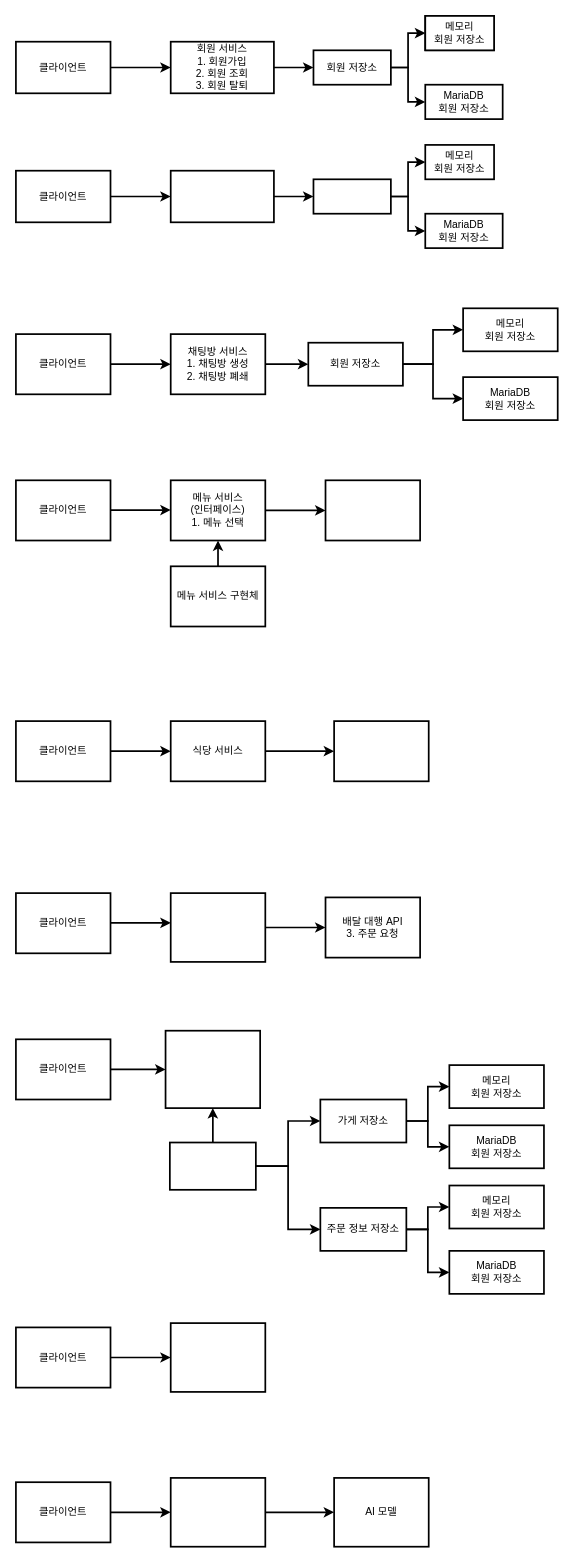
The diagram is 573 pixels wide and 1562 high, and some of its shapes have lost their labels. Here are the shapes that lost their labels. From the top down, the centre of each, then its label:
[221,196]: 로그인 서비스 1. 로그인 2. pw 변경
[351,196]: 로그인 정보 저장소
[372,510]: 배달 대행 API 2. 식당 메뉴 조회
[381,751]: 배달 대행 API 1. 식당 이름 조회
[217,927]: 주문 서비스 1. 주문 생성 2. 주문 취소 3. 주문 정보 공지 4. 배달 알림 공지
[212,1069]: 배달 대행 API 1. 식당 이름 조회 2. 식당 메뉴 조회 3. 주문 요청
[212,1165]: 배달 대행 서비스
[217,1357]: 결제 서비스 1. 결제 API 호출
[217,1512]: AI 서비스 1. AI 추천
